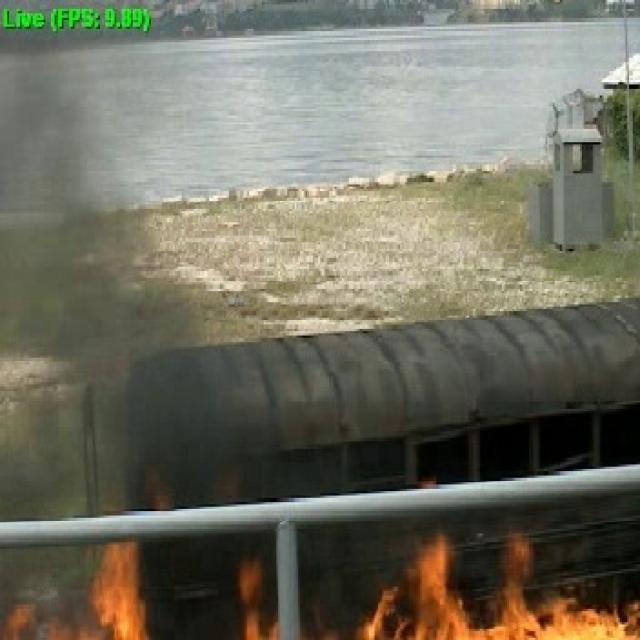Fire: (42, 498, 638, 640)
Smoke: (0, 82, 240, 482)
